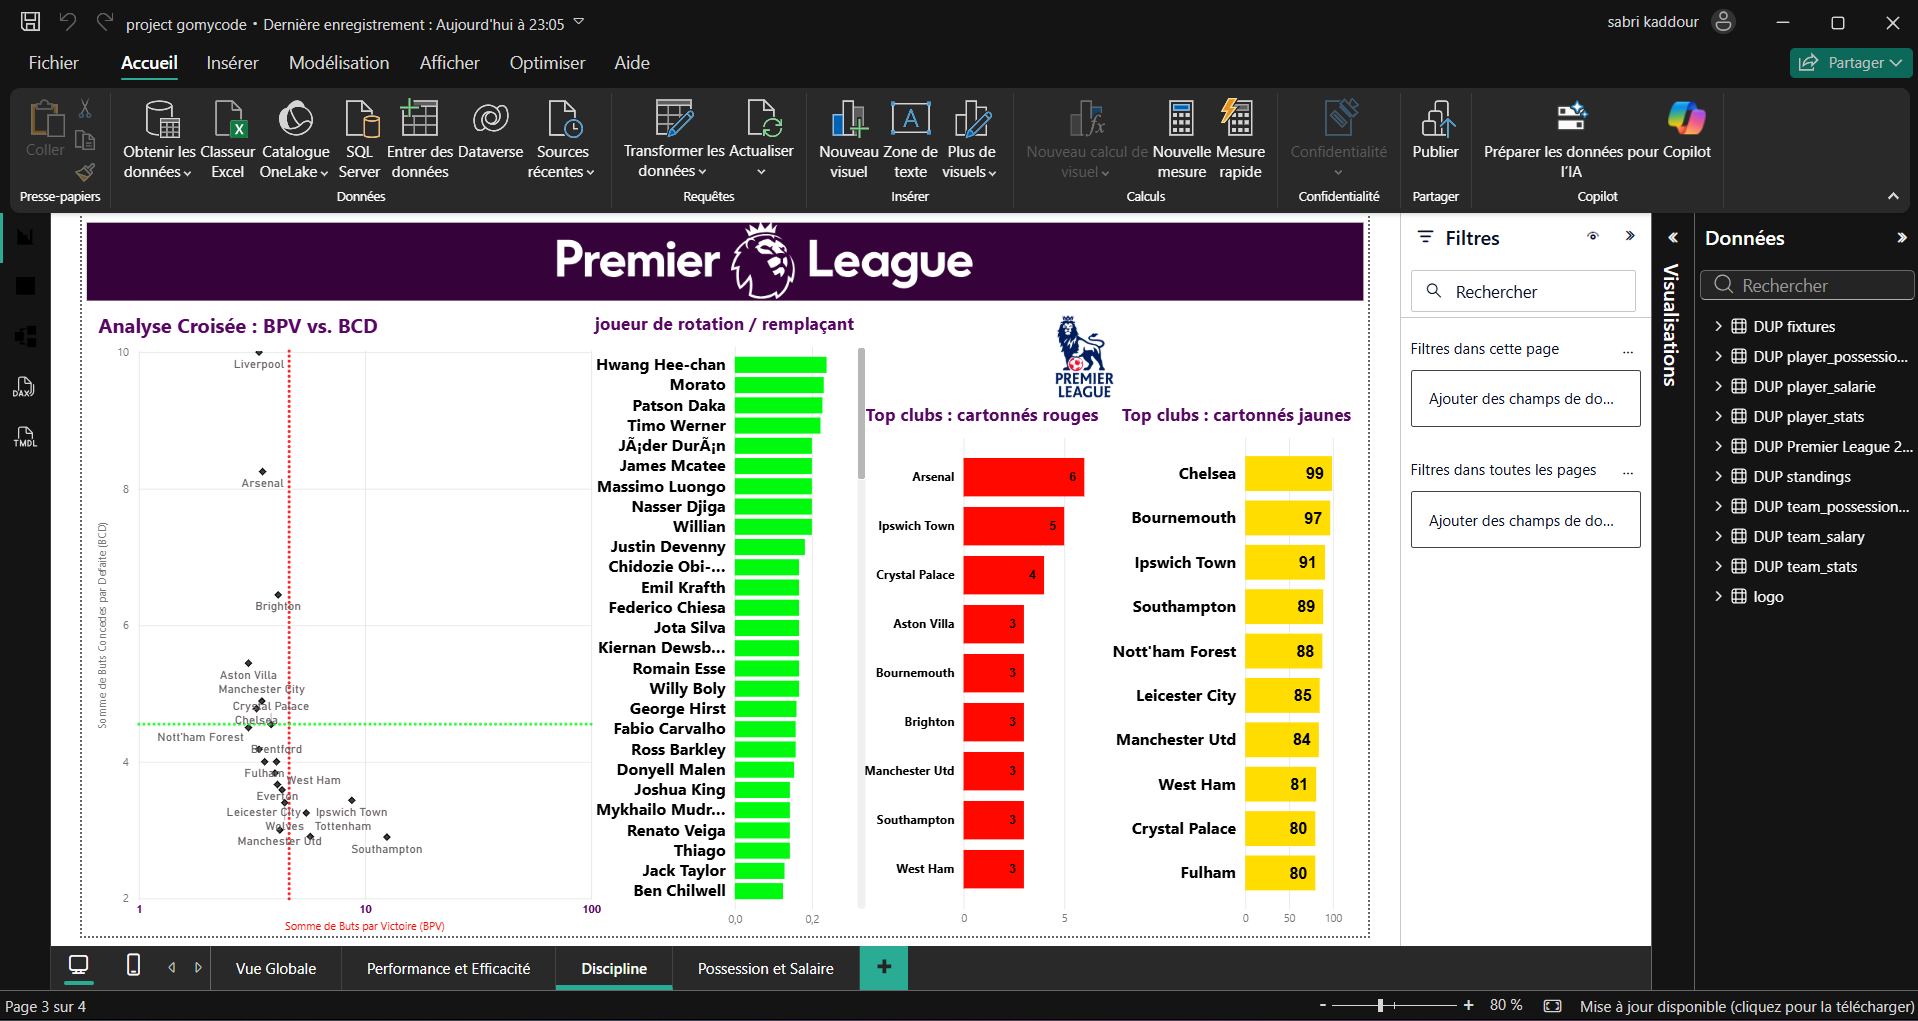

The dashboard page shown, as its layout file describes it:
{"tool":"powerbi","page":{"name":"Discipline","canvas":[1280,720],"ordinal":2},"visuals":[{"type":"image","box":[941.9,96.6,111.9,91.5],"z":0},{"type":"image","box":[0,0,1280,96.7],"z":1000},{"type":"barChart","title":"Top clubs : cartonnés rouges","fields":{"Category":["DUP team_possession_stats.team"],"Y":["DUP team_possession_stats.Total Red Cards"]},"box":[772.9,188.8,246.4,530.5],"z":2000},{"type":"barChart","title":"Top  clubs : cartonnés jaunes","fields":{"Category":["DUP team_possession_stats.team"],"Y":["DUP team_possession_stats.Total Yellow Cards"]},"box":[1019.3,188.8,260.3,530.5],"z":3000},{"type":"scatterChart","title":"Analyse Croisée : BPV vs. BCD","fields":{"X":["Sum(DUP standings.Buts par Victoire (BPV))"],"Y":["Sum(DUP standings.Buts Concedes par Defaite (BCD))"],"Category":["DUP standings.team"]},"box":[11,97.7,510.6,622.5],"z":4000},{"type":"barChart","title":" joueur de rotation / remplaçant ","fields":{"Category":["DUP player_stats.name"],"Y":["Sum(DUP player_stats.Importance du Joueur)"]},"box":[494.5,97.9,291.1,621.6],"z":5000}]}

Visuals, with their boxes on the page's 1280x720 design canvas (x1, y1, x2, y2). These are canvas units, not pixel positions in the 1918x1021 screenshot, which may show the page scaled, cropped or inside an application window:
image: bbox(942, 97, 1054, 188)
image: bbox(0, 0, 1280, 97)
"Top clubs : cartonnés rouges" barChart: bbox(773, 189, 1019, 719)
"Top  clubs : cartonnés jaunes" barChart: bbox(1019, 189, 1280, 719)
"Analyse Croisée : BPV vs. BCD" scatterChart: bbox(11, 98, 522, 720)
" joueur de rotation / remplaçant " barChart: bbox(494, 98, 786, 720)
